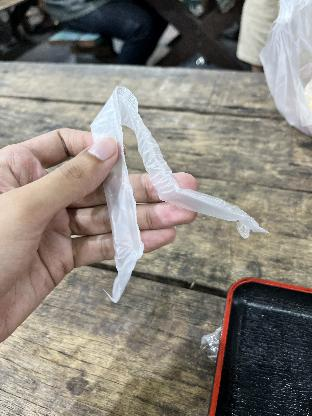Others: (81, 84, 271, 302)
